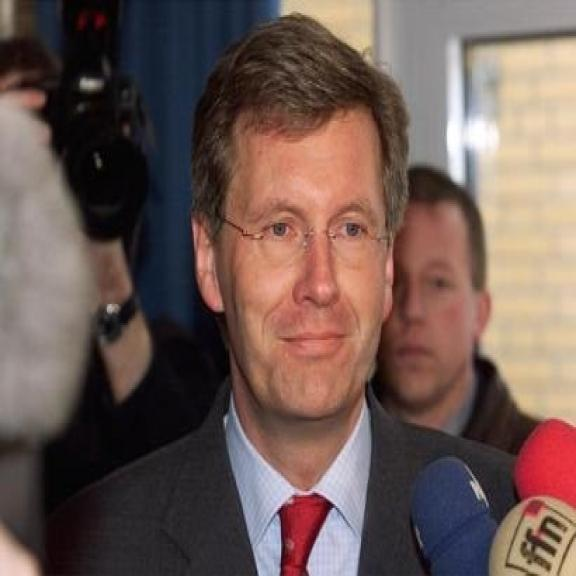face: (188, 23, 397, 425), (379, 166, 494, 415)
